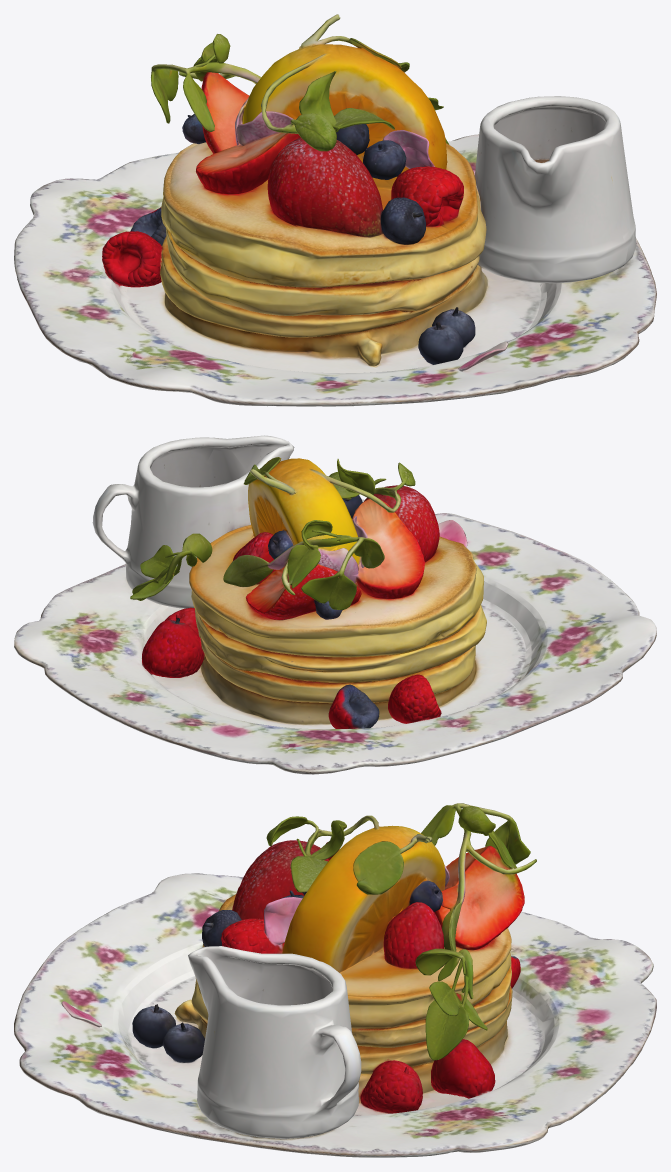
File: berry-souffle-pancakes.glb
3 views of the same model, one above another, from view 1: azimuth 30°, elevation 25°; view 2: azimuth 150°, elevation 25°; view 3: azimuth 270°, elevation 25° (orthographic). The views are drawn at different scales.
Visible parts, largest first — view 1: tripo_node_cfbc04ff-4801-4693-9bde-0840b71f8c76; view 2: tripo_node_cfbc04ff-4801-4693-9bde-0840b71f8c76; view 3: tripo_node_cfbc04ff-4801-4693-9bde-0840b71f8c76.
Boxes of the visible parts, <box> form: tripo_node_cfbc04ff-4801-4693-9bde-0840b71f8c76: <box>14,14,656,406</box>; tripo_node_cfbc04ff-4801-4693-9bde-0840b71f8c76: <box>14,435,656,774</box>; tripo_node_cfbc04ff-4801-4693-9bde-0840b71f8c76: <box>14,803,656,1157</box>.
Bounding box in the file's own units: 0.9804 × 0.3919 × 0.975.
Materials: 1 (1 with a texture image).
